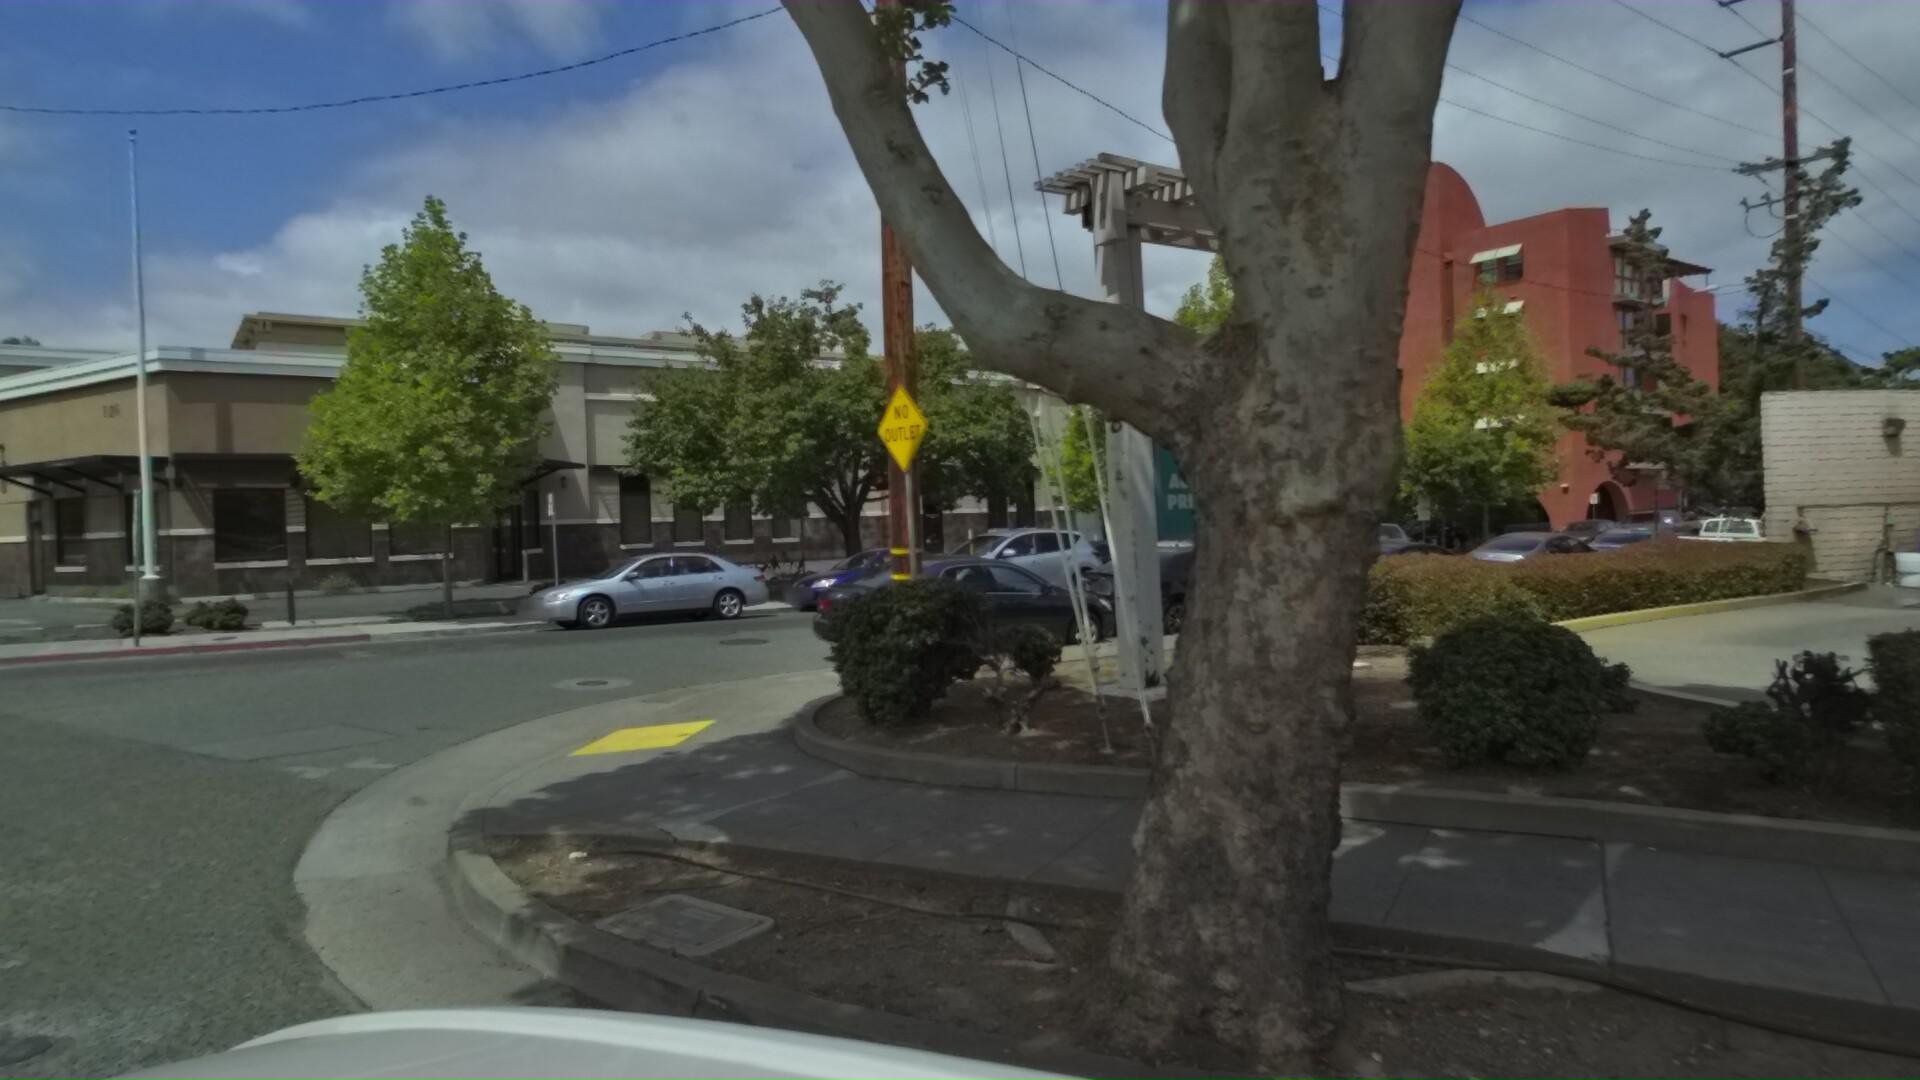car: (814, 531, 1166, 680), (1077, 529, 1342, 642), (517, 535, 793, 636), (894, 520, 1122, 618), (785, 531, 997, 611), (1007, 526, 1185, 593), (1673, 500, 1818, 568), (1586, 512, 1730, 579), (1288, 509, 1429, 570), (1741, 495, 1873, 559), (1606, 492, 1720, 543)
